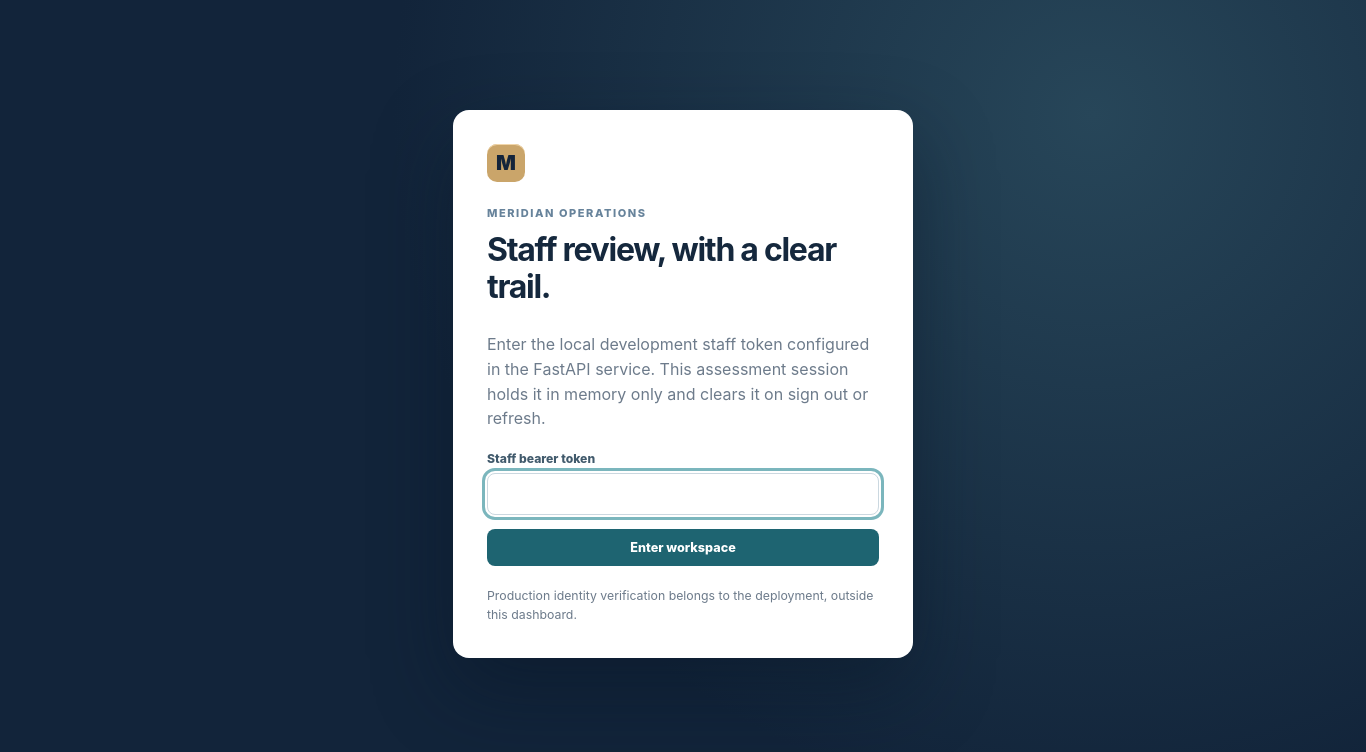
Test: staff session and API client › clears protected state on sign out
Type "valid-token" into the password field labelled "Staff bearer token" at (683, 494), box [487, 473, 879, 515]
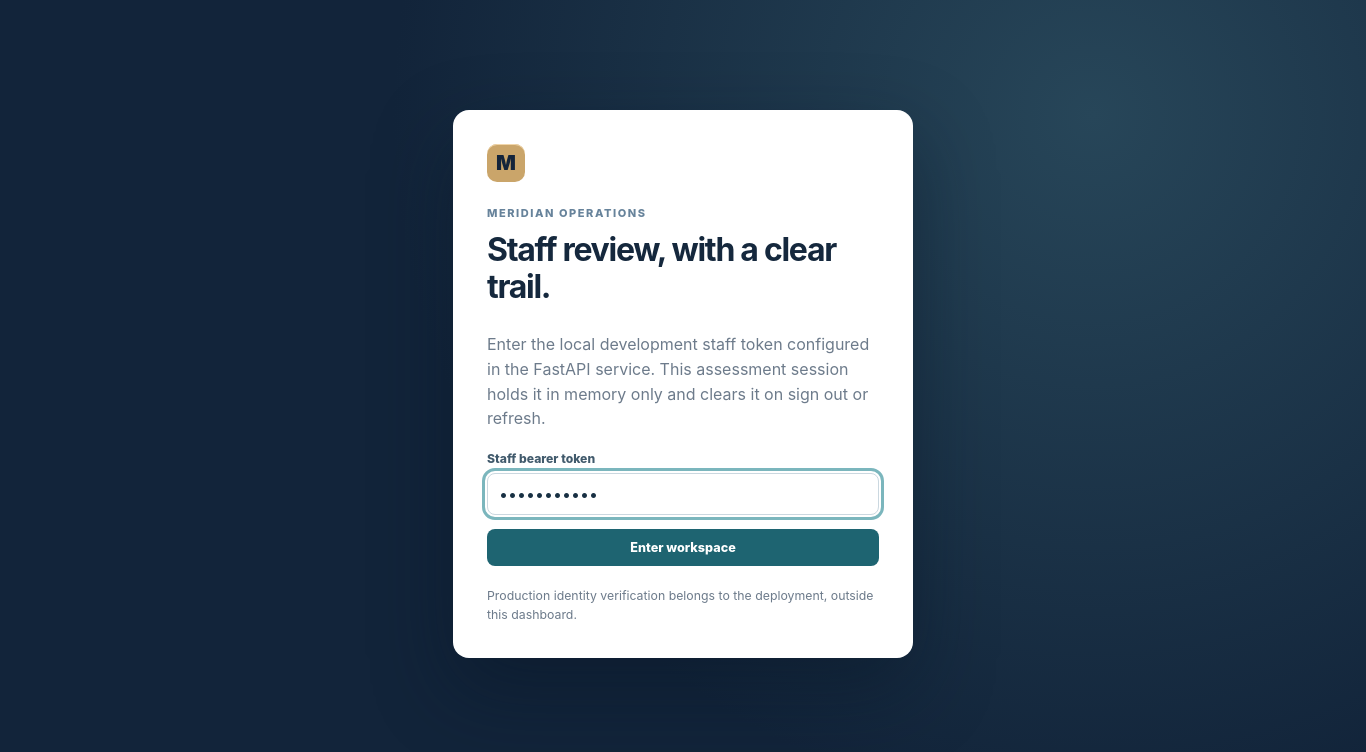
Click the button "Enter workspace" at (683, 548), box [487, 529, 879, 566]
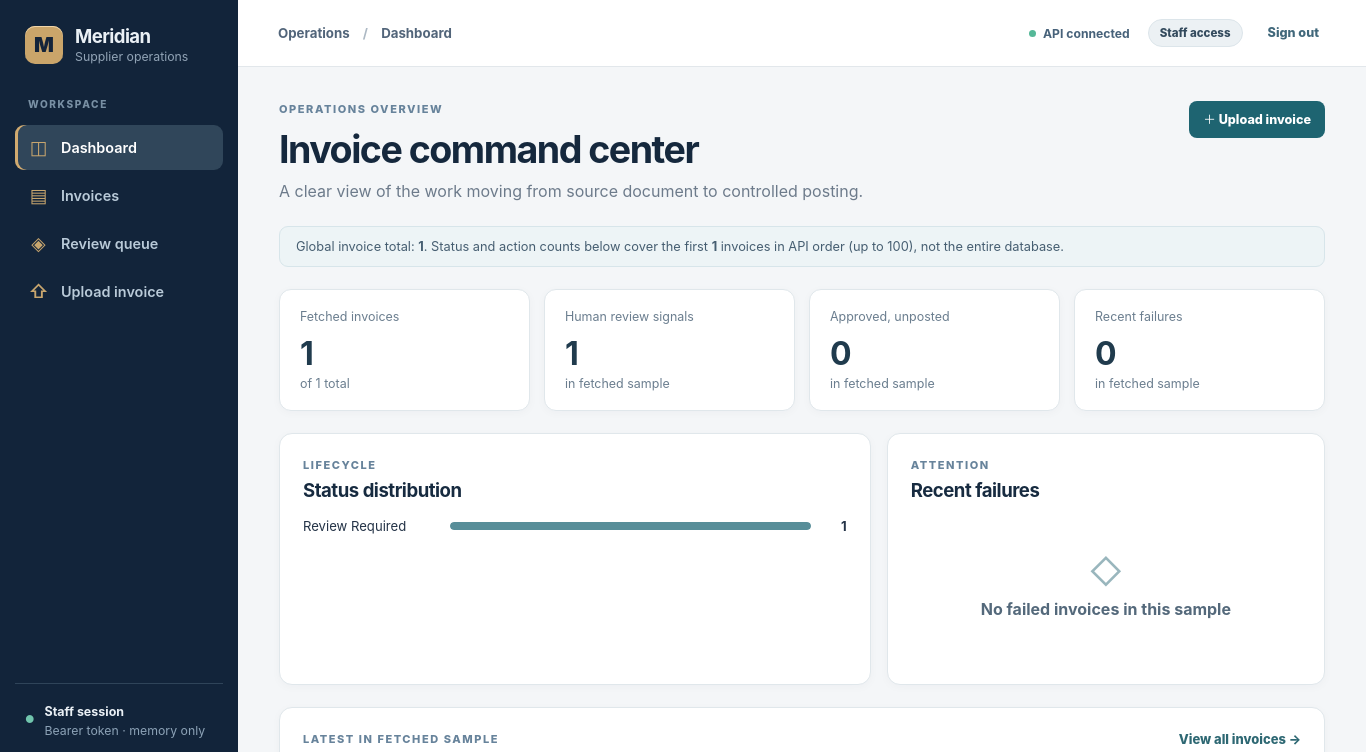
Check: the heading "Invoice command center" is shown, box [279, 127, 698, 172]
Click the button "Sign out" at (1293, 33), box [1261, 14, 1326, 52]
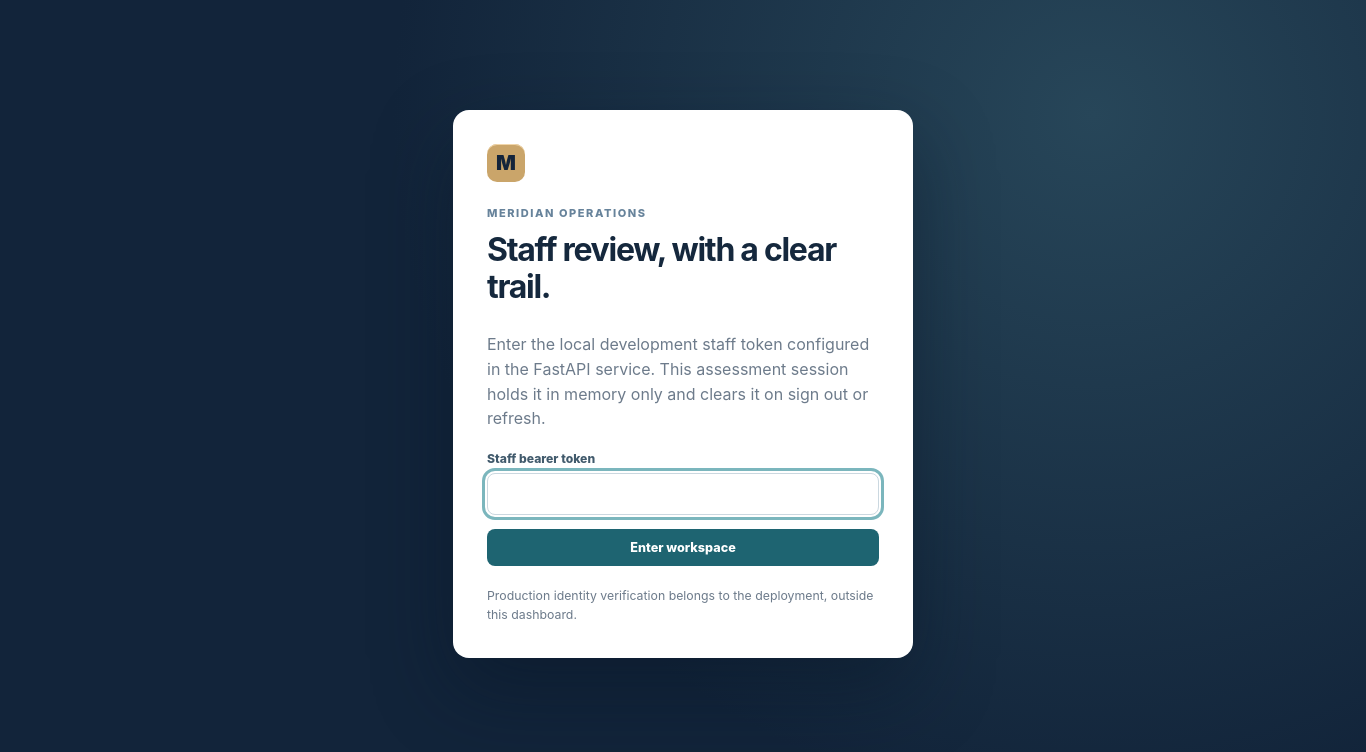
Check: the password field labelled "Staff bearer token" is shown, box [487, 473, 879, 515]
